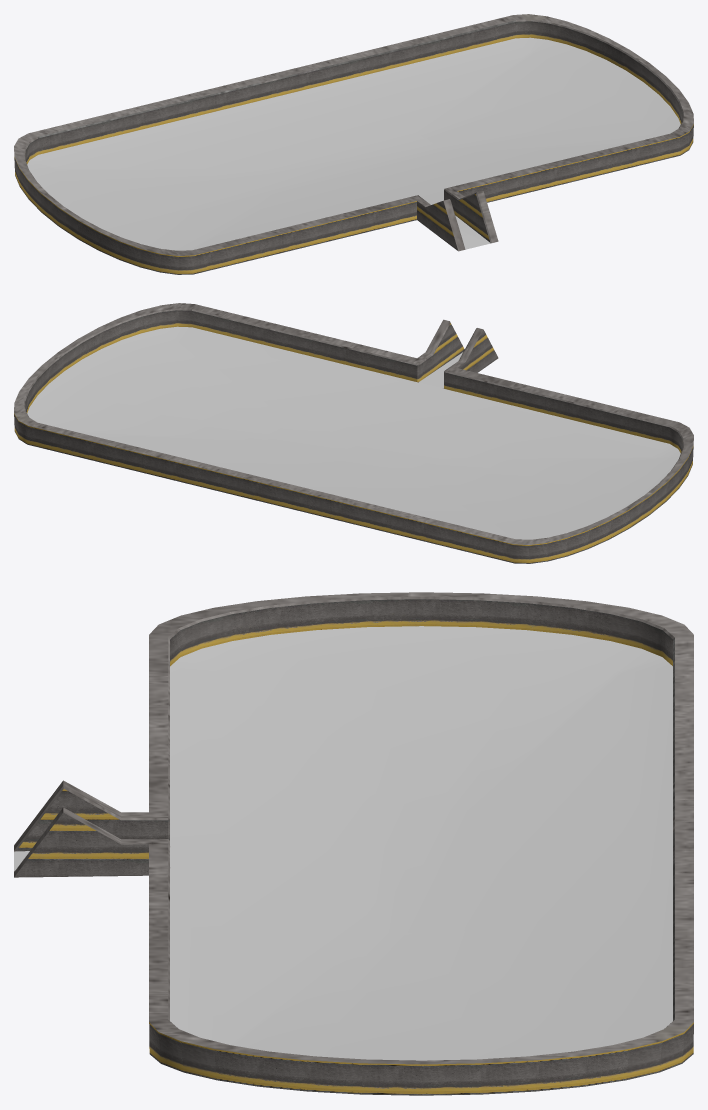
Rendered from StadiumBaseUV2.FBX.
The picture shows the model from 3 angles, top to bottom: view 1: azimuth 30°, elevation 25°; view 2: azimuth 150°, elevation 25°; view 3: azimuth 270°, elevation 25°; orthographic projection. The views are drawn at different scales.
Parts seen in each view (by area): view 1: StadiumShape; view 2: StadiumShape; view 3: StadiumShape.
Part boxes in pixels (bbox=[...]): StadiumShape: bbox=[14, 14, 693, 274]; StadiumShape: bbox=[14, 303, 693, 563]; StadiumShape: bbox=[14, 592, 693, 1095].
Bounding box in the file's own units: 300 × 22.1 × 182.
